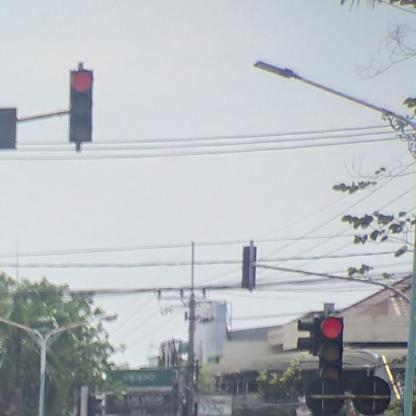red: (68, 69, 92, 143), (320, 318, 344, 386)
